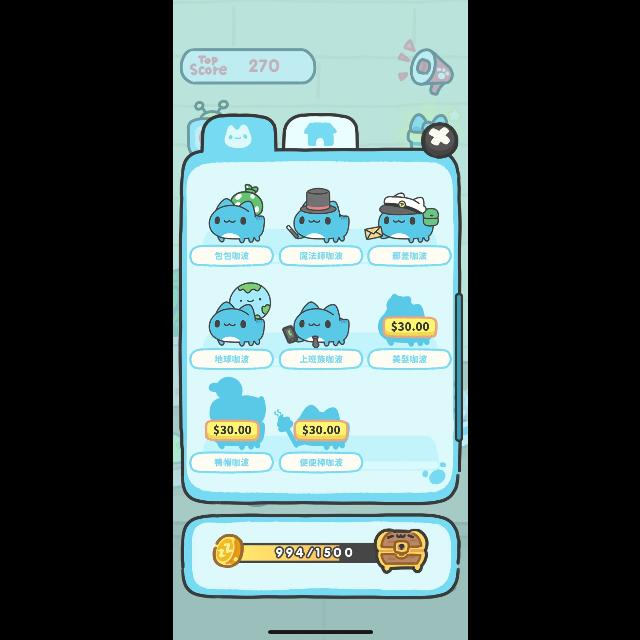capoo: (200, 279, 276, 349), (204, 182, 270, 248), (364, 193, 442, 243), (282, 299, 354, 351), (288, 185, 350, 242)
